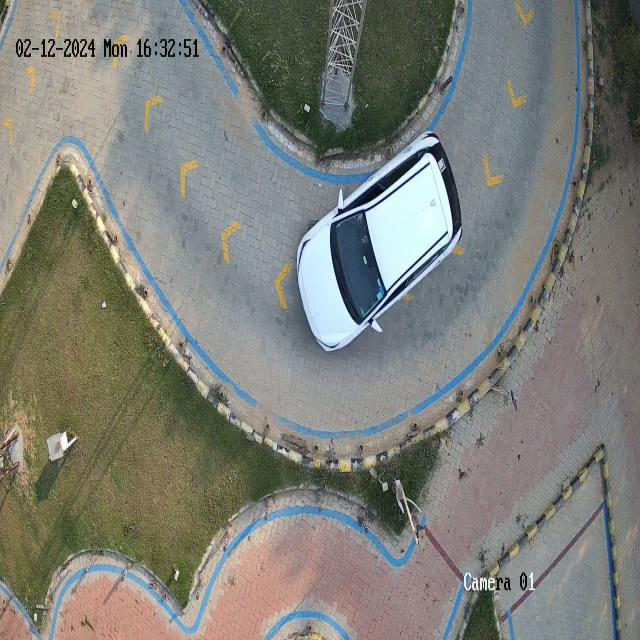car: (294, 135, 462, 353)
